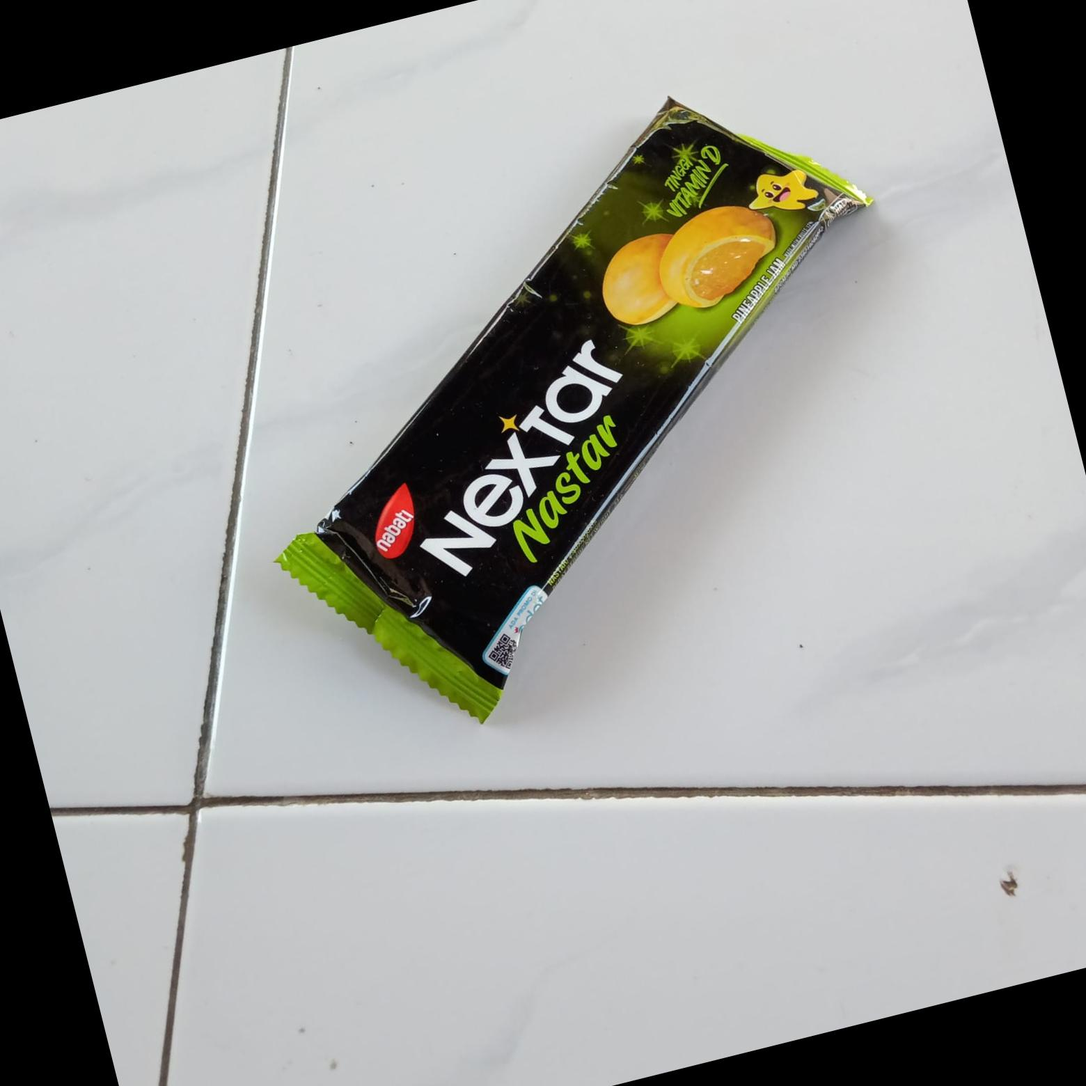Plastik: (184, 50, 975, 765)
